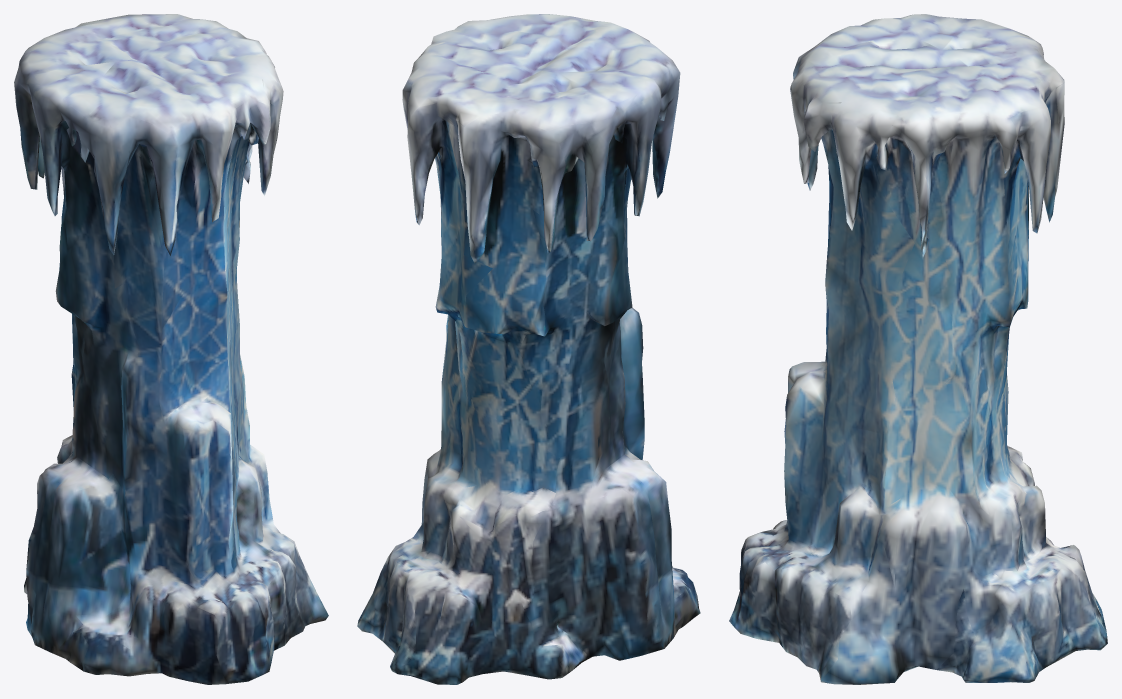
File: BossRoom_FrostPillar.fbx
The picture shows the model from 3 angles, left to right: view 1: azimuth 30°, elevation 25°; view 2: azimuth 150°, elevation 25°; view 3: azimuth 270°, elevation 25°; orthographic projection.
Visible parts, largest first — view 1: BossRoom_FrostPillar_Mesh; view 2: BossRoom_FrostPillar_Mesh; view 3: BossRoom_FrostPillar_Mesh.
Boxes of the visible parts, x1=… form: BossRoom_FrostPillar_Mesh: x1=14, y1=14, x2=328, y2=684; BossRoom_FrostPillar_Mesh: x1=357, y1=14, x2=700, y2=684; BossRoom_FrostPillar_Mesh: x1=729, y1=14, x2=1107, y2=684.
Size of the model in its own units: 2.79 by 6 by 3.64.
Materials: 1 (1 with a texture image).
